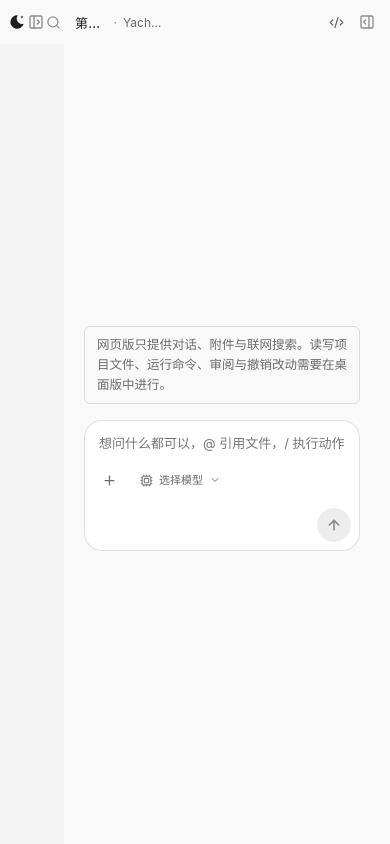
DesktopLayout › opens SettingsModal on custom tab when clicking manage all skills in skill popover
Click the button named "添加文件、项目或技能": (109, 480) [93,464,125,496]
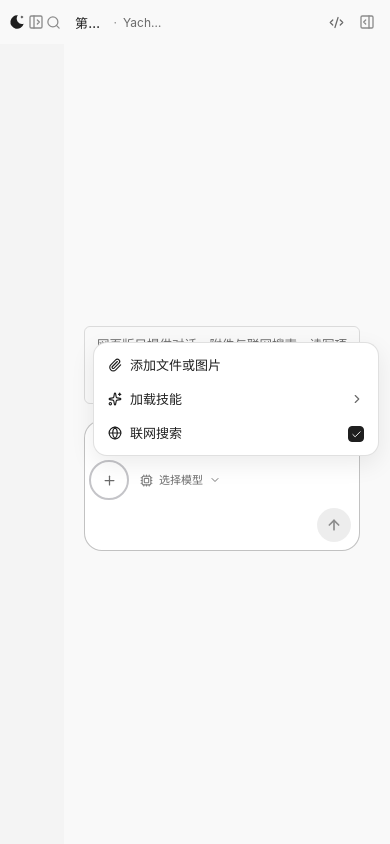
Click the button "加载技能": (156, 399) [100,384,372,416]
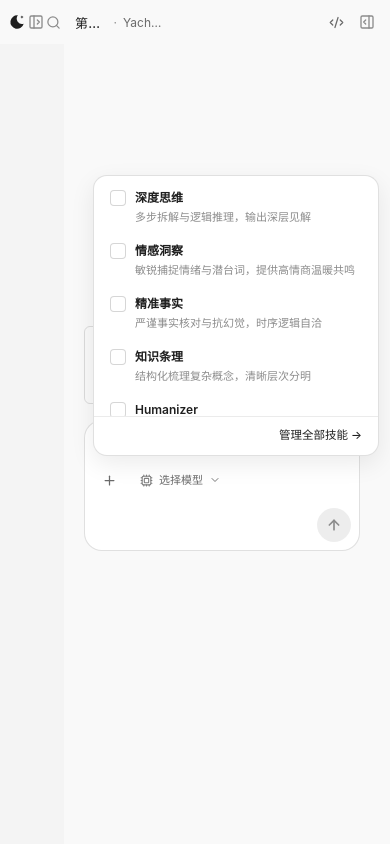
# 点击管理全部技能
Click the button "管理全部技能 →": (320, 436) [275,424,366,448]
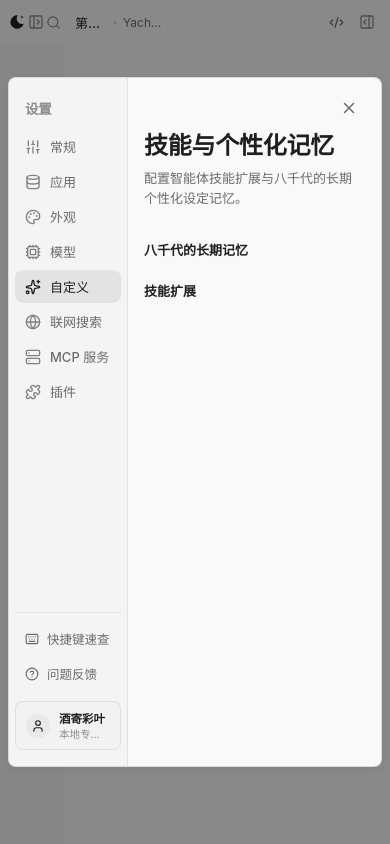
Expected: the dialog named "设置中心" is shown
Expected: the heading "技能与个性化记忆" is shown, [144,126,365,161]
Expected: the heading "技能扩展" is shown, [144,283,196,299]
